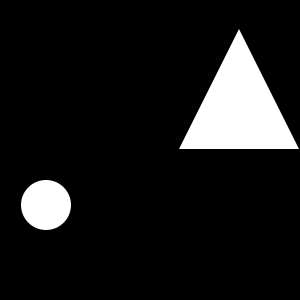rectangle: (21, 180, 71, 230)
triangle: (179, 29, 299, 149)
